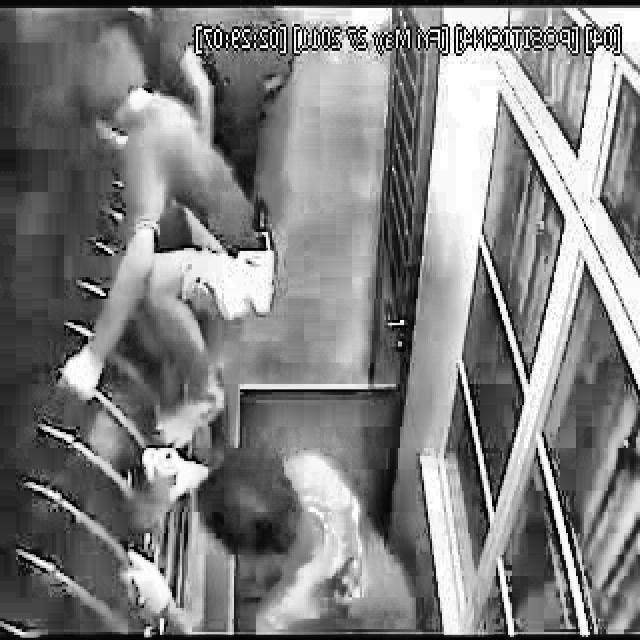burglary: (55, 9, 299, 443), (106, 444, 428, 635)
